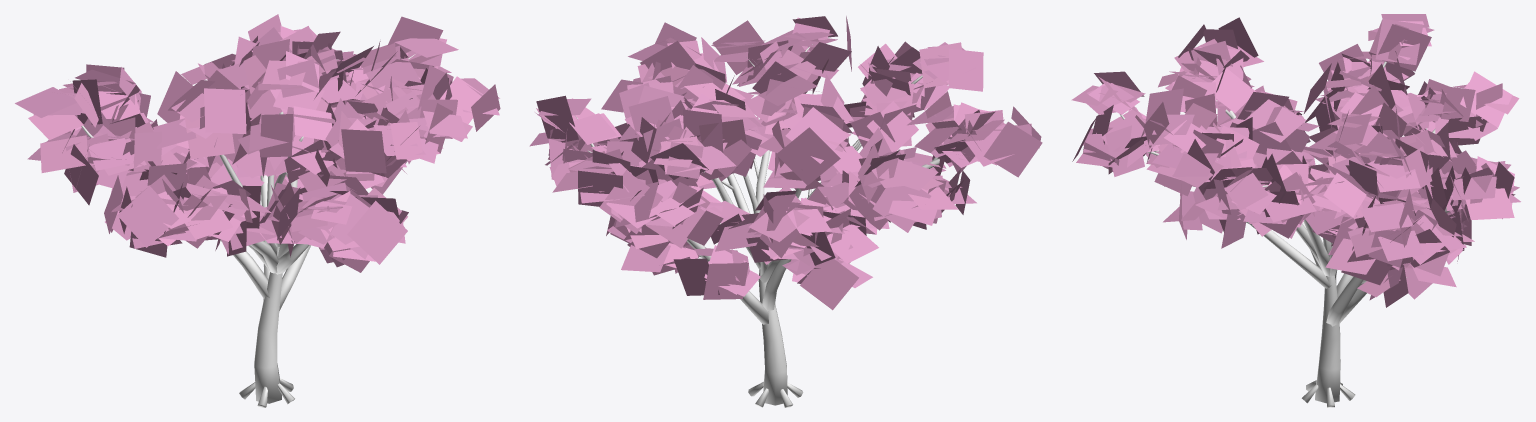
The model's file is SM_Sakura_Hero_LOD1.fbx.
3 renders of one model, left to right at view 1: azimuth 30°, elevation 25°; view 2: azimuth 150°, elevation 25°; view 3: azimuth 270°, elevation 25°, orthographic. The views are drawn at different scales.
Parts seen in each view (by area): view 1: SM_Sakura_Hero_LOD1; view 2: SM_Sakura_Hero_LOD1; view 3: SM_Sakura_Hero_LOD1.
Part boxes in pixels (bbox=[...]): SM_Sakura_Hero_LOD1: bbox=[15, 14, 500, 407]; SM_Sakura_Hero_LOD1: bbox=[529, 16, 1042, 407]; SM_Sakura_Hero_LOD1: bbox=[1071, 14, 1520, 407].
Bounding box in the file's own units: 10.18 × 9.55 × 7.34.
